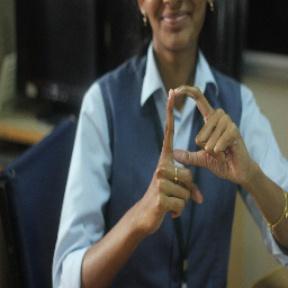D: (156, 81, 238, 183)
